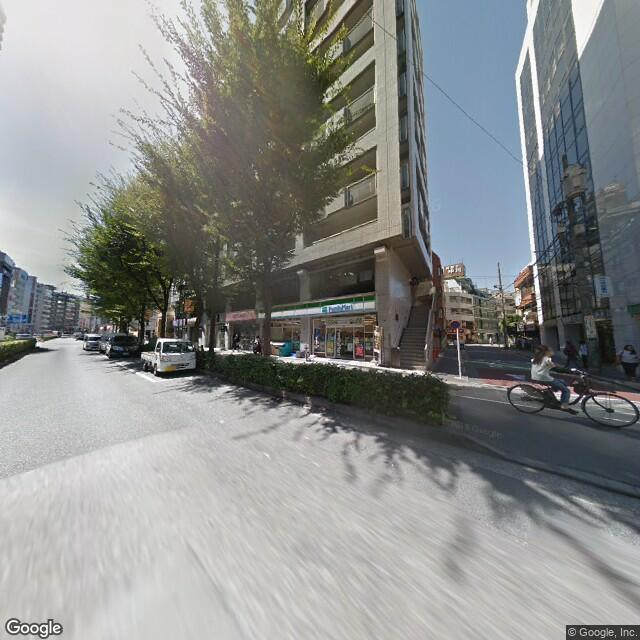family mart: (266, 290, 382, 324)
